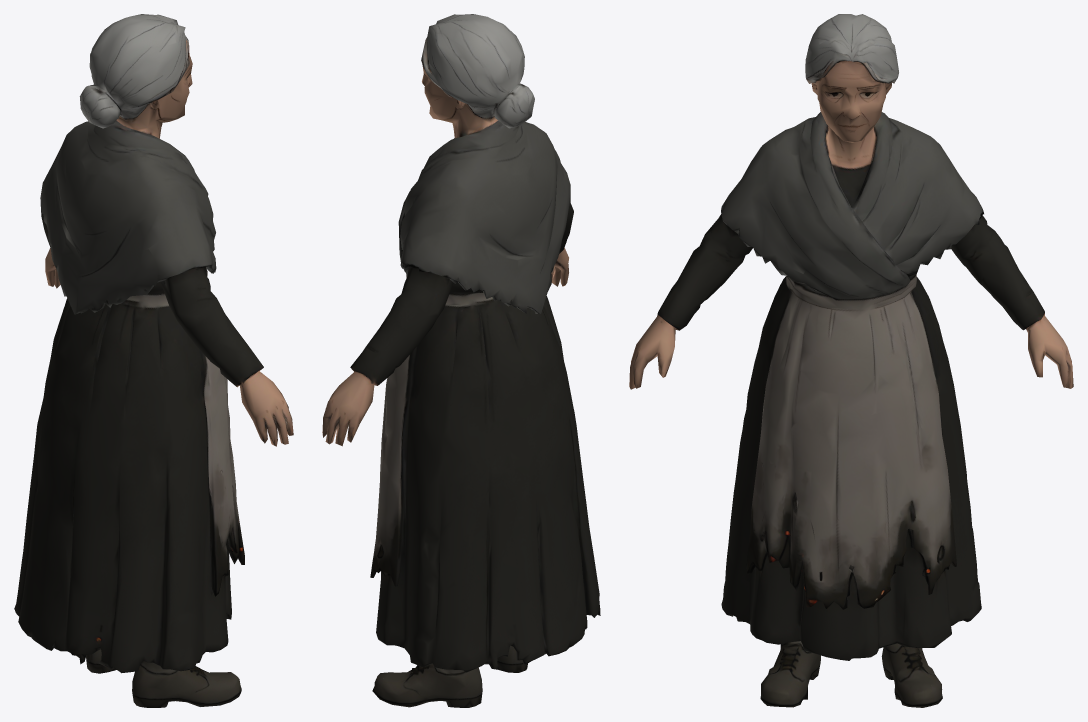
File: 9a73a1d4-a8d9-4a58-b26a-5b7aa3594767_model_url.glb
3 views of the same model, side by side, from view 1: azimuth 30°, elevation 25°; view 2: azimuth 150°, elevation 25°; view 3: azimuth 270°, elevation 25° (orthographic).
Parts seen in each view (by area): view 1: tripo_node_9a73a1d4-a8d9-4a58-b26a-5b7aa3594767; view 2: tripo_node_9a73a1d4-a8d9-4a58-b26a-5b7aa3594767; view 3: tripo_node_9a73a1d4-a8d9-4a58-b26a-5b7aa3594767.
Boxes of the visible parts, <box> form: tripo_node_9a73a1d4-a8d9-4a58-b26a-5b7aa3594767: <box>14,14,293,707</box>; tripo_node_9a73a1d4-a8d9-4a58-b26a-5b7aa3594767: <box>322,14,600,707</box>; tripo_node_9a73a1d4-a8d9-4a58-b26a-5b7aa3594767: <box>629,14,1073,707</box>.
Size of the model in its own units: 0.2987 by 1 by 0.6077.
Materials: 1 (1 with a texture image).
